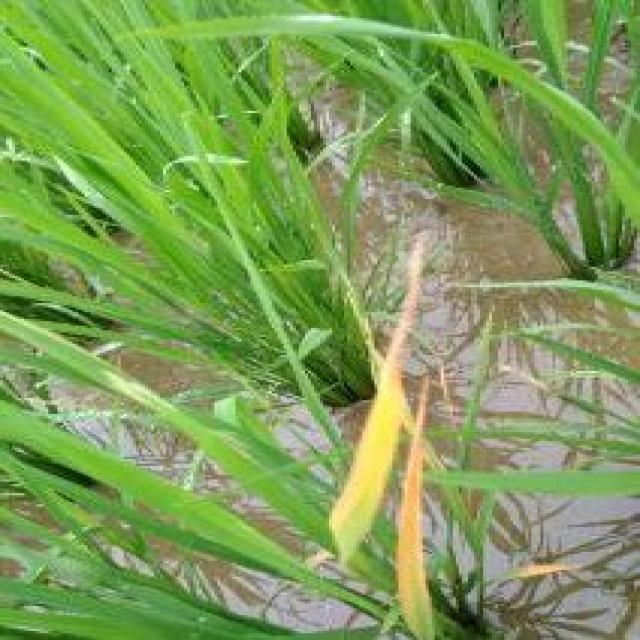Tungro: (322, 249, 468, 629)
